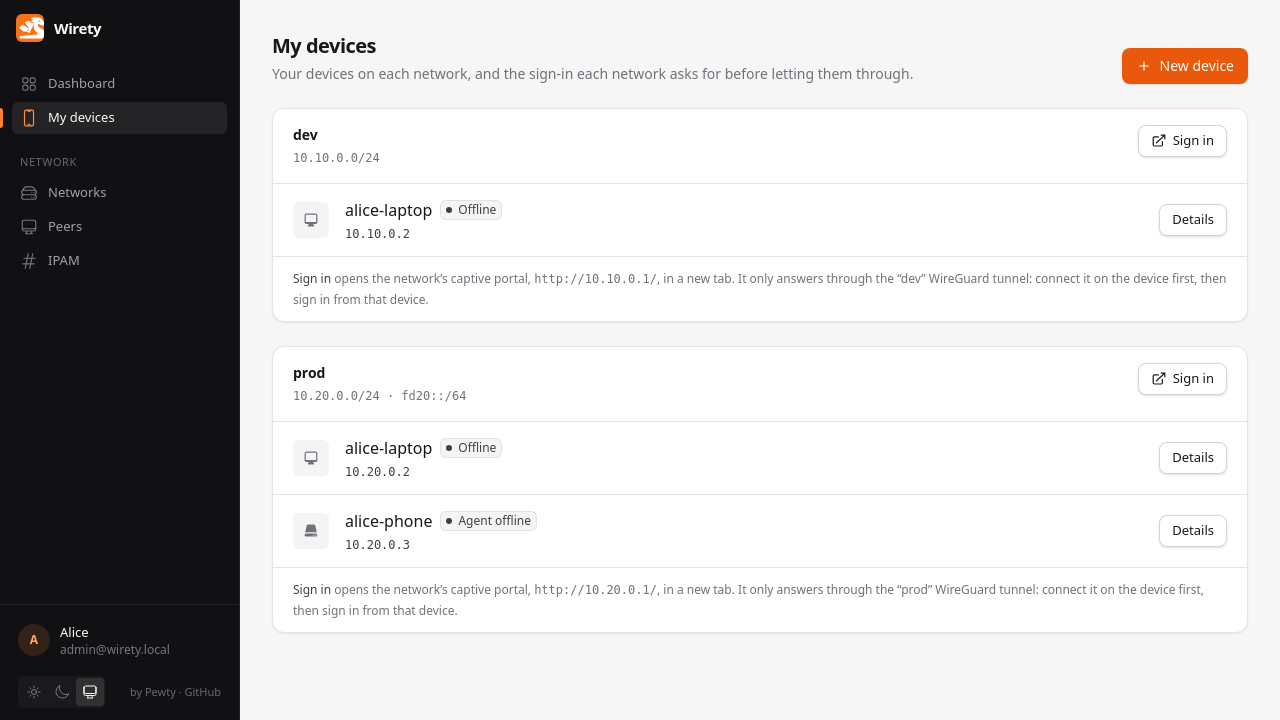
Test: My devices › opens a device’s details
Step 1. Click the button "Details" in the row of "10.20.0.2" → (1193, 458), box [1159,442,1227,474]
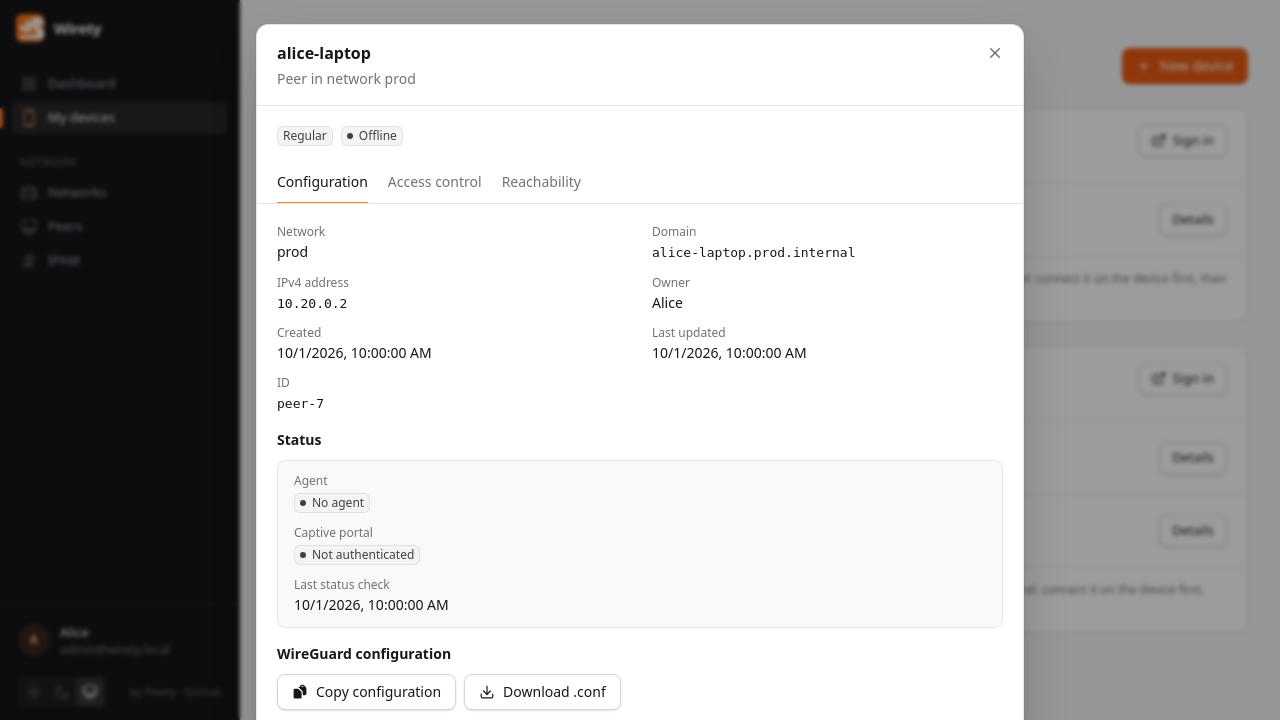
Result: the text "10.20.0.2" is shown at [277,296,348,311]
Result: the button "Download .conf" is shown at [464,674,621,710]
